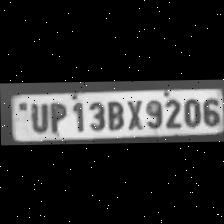0: (180, 96, 200, 127)
1: (66, 99, 86, 132)
2: (162, 96, 182, 128)
3: (84, 98, 106, 132)
6: (200, 96, 220, 127)
9: (142, 97, 162, 128)
B: (104, 96, 124, 130)
P: (46, 100, 68, 132)
U: (26, 100, 50, 132)
X: (122, 96, 144, 129)
